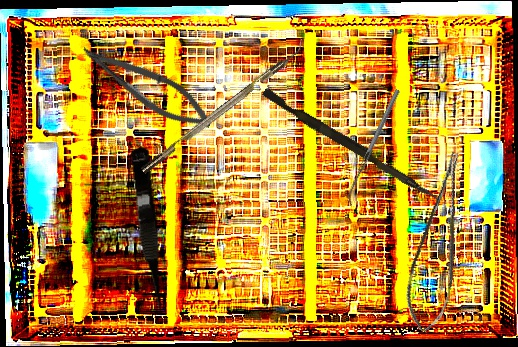Chopper: (134, 35, 310, 175)
Micro Scissor: (393, 150, 492, 336), (72, 37, 221, 138), (126, 145, 170, 321)
Pusher: (259, 87, 444, 203)
Spatula Surgical: (343, 88, 404, 207)
